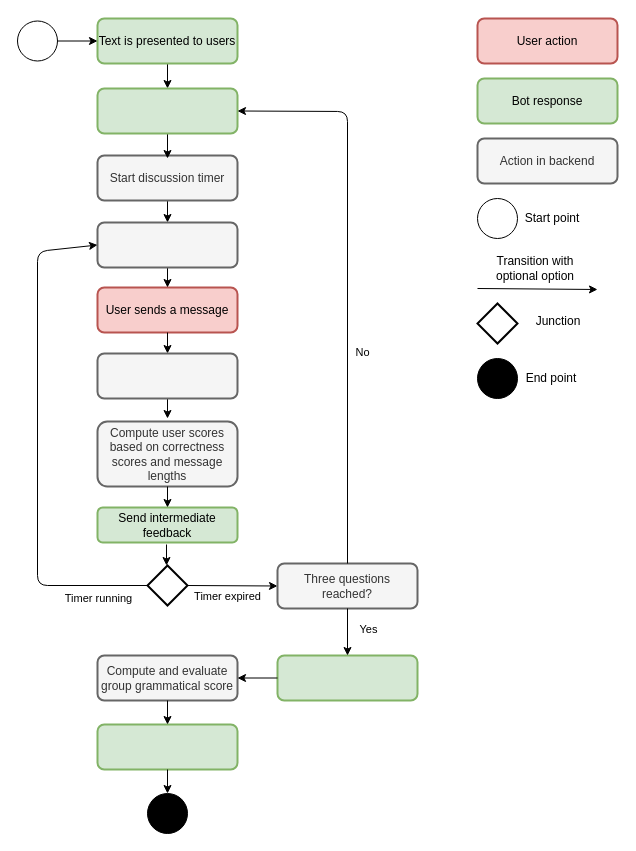
This 636x851 diagram has some shape labels left out. The box of each missing label's shape, as (x1, y1, x2, y2) in pixels:
Compute correctness score for message: (96, 352, 238, 399)
Enter handle_discussion state: (96, 221, 238, 268)
Give pass/fail feedback: (96, 723, 238, 770)
Send final grammar feedback: (276, 654, 418, 701)
Text-related question is presented: (96, 87, 238, 134)
